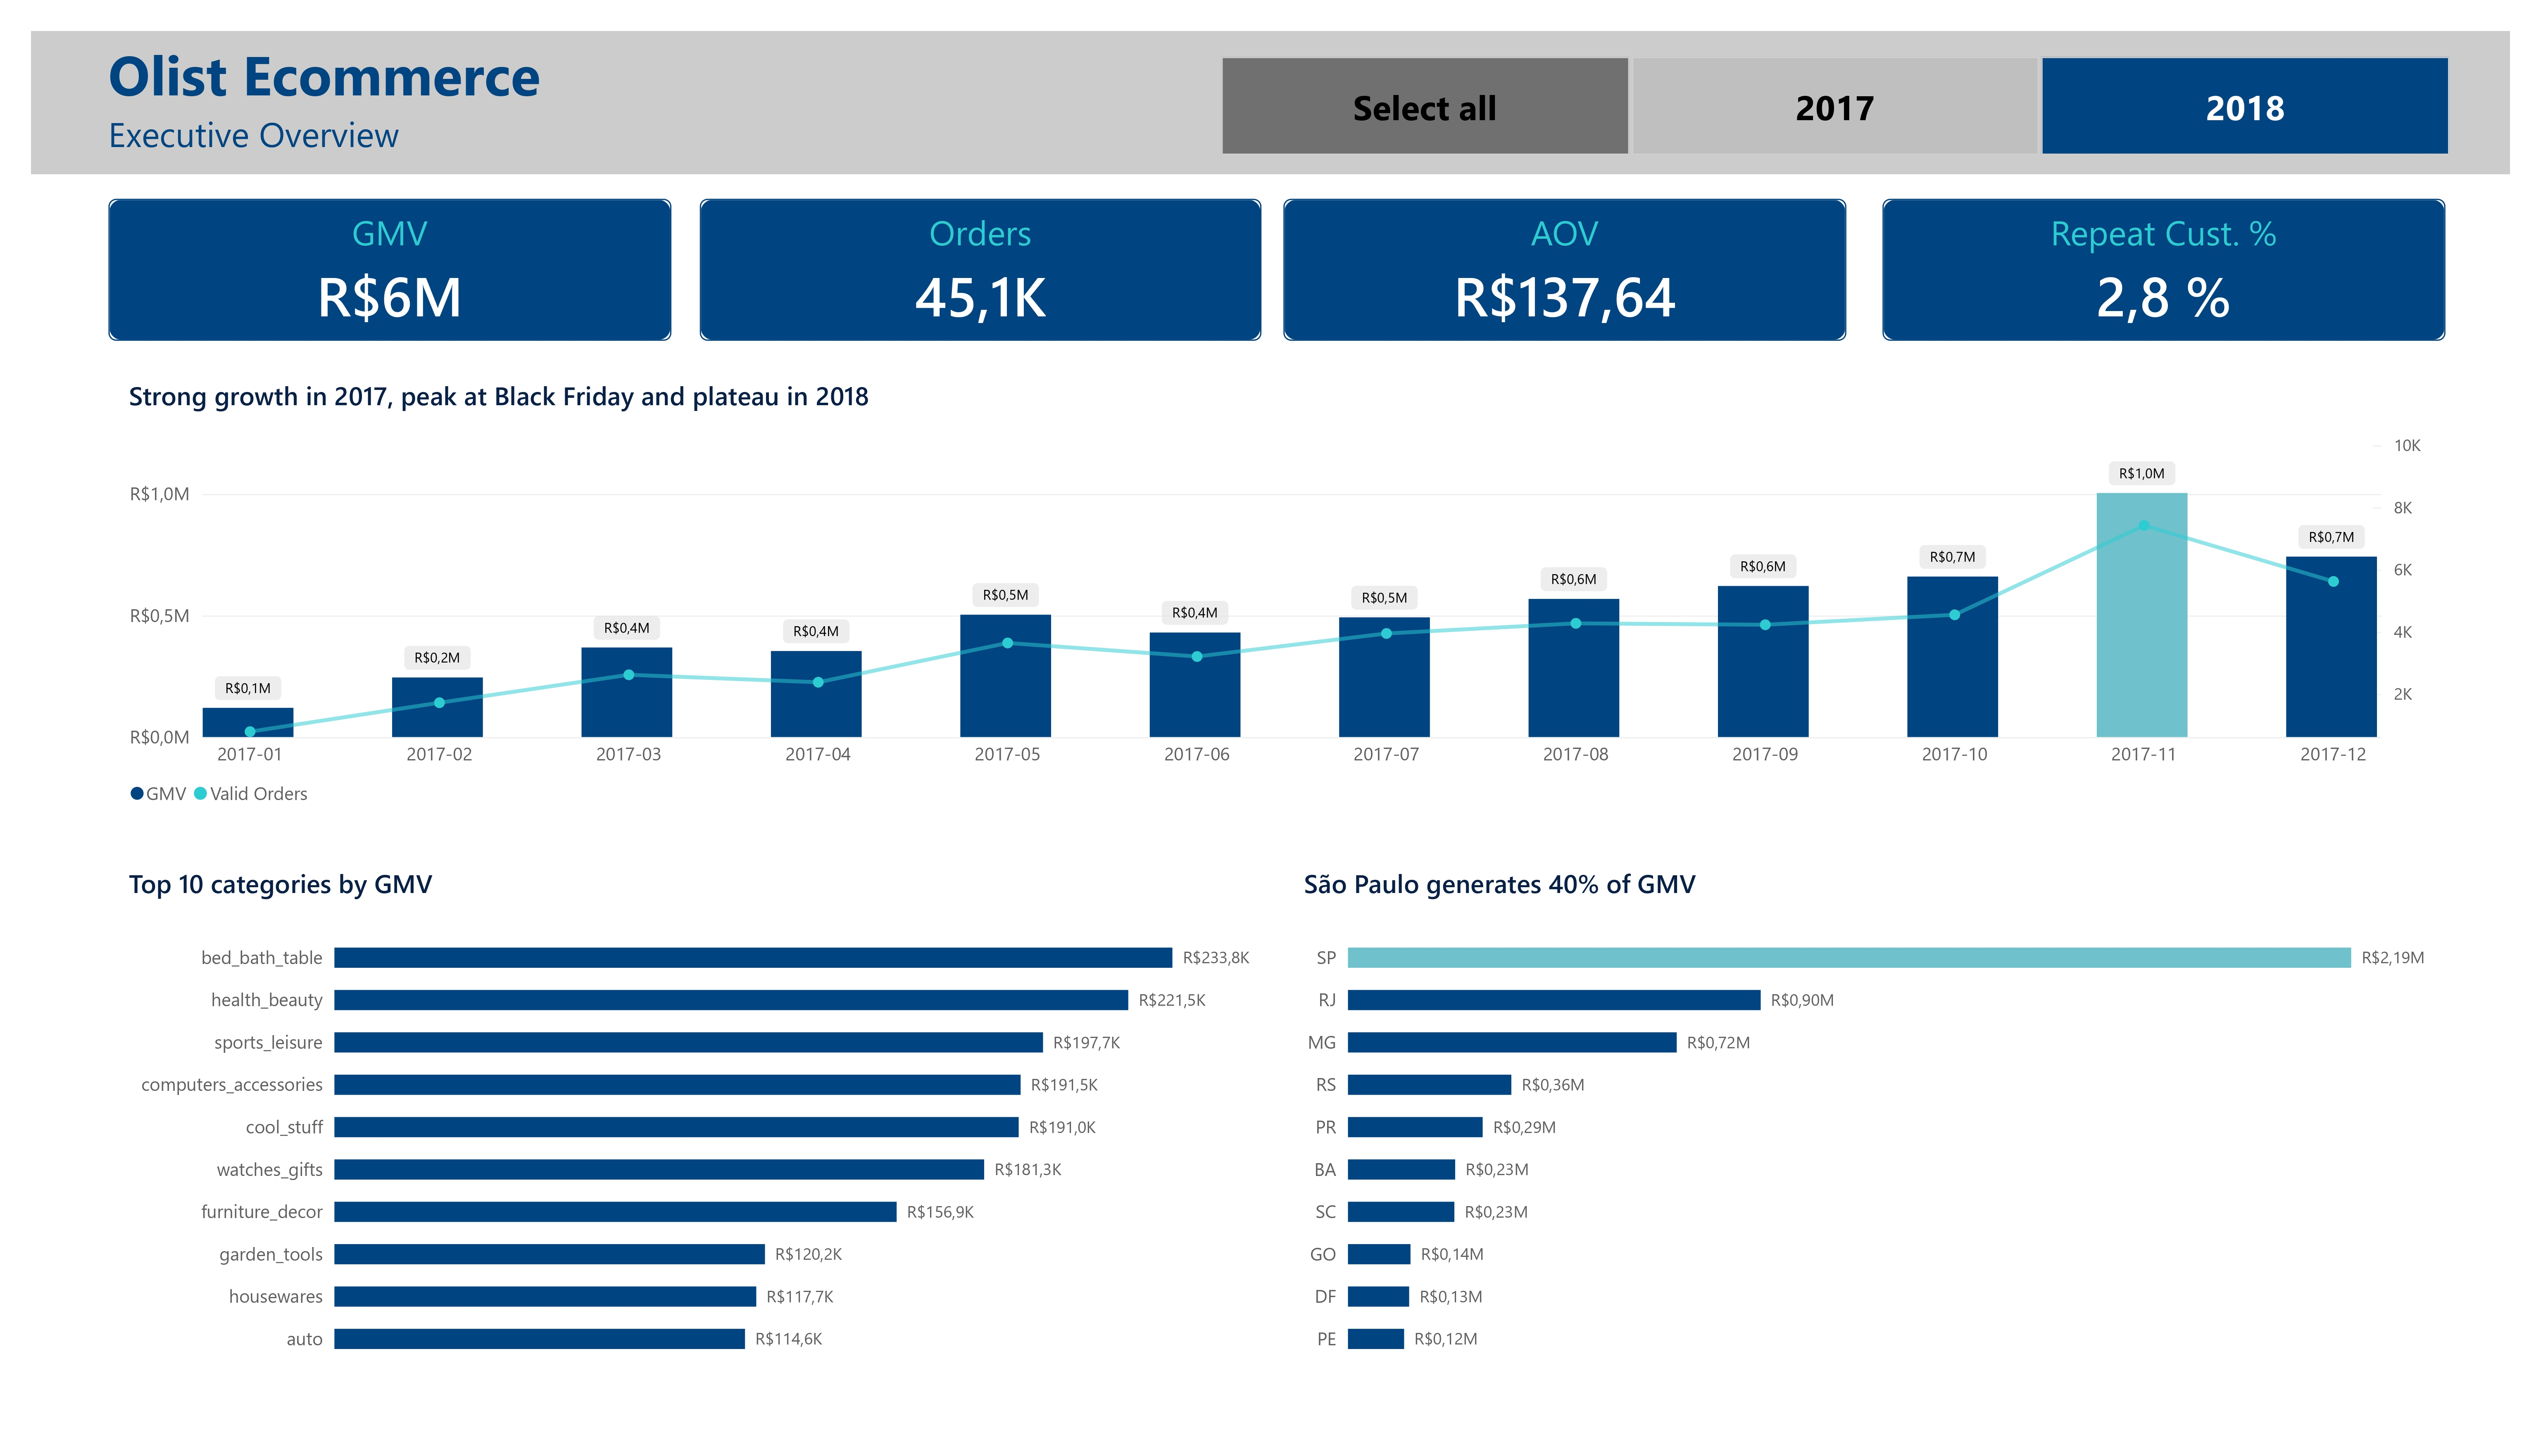

The dashboard page shown, as its layout file describes it:
{"tool":"powerbi","page":{"name":"Executive Overview","canvas":[1920,1080],"ordinal":0},"visuals":[{"type":"cardVisual","fields":{"Data":["_Measures.GMV"]},"box":[60,130,435.6,109.7],"z":0,"group":"g1"},{"type":"lineClusteredColumnComboChart","title":"Strong growth in 2017, peak at Black Friday and plateau in 2018","fields":{"Category":["Calendar.Year-Month"],"Y":["_Measures.GMV"],"Y2":["_Measures.Valid Orders"]},"box":[60,254,1810,367],"z":0},{"type":"cardVisual","fields":{"Data":["_Measures.Orders"]},"box":[517.8,130,435.6,109.7],"z":1000,"group":"g1"},{"type":"clusteredBarChart","title":"Top 10 categories by GMV","fields":{"Category":["dim_products.product_category_name_en"],"Y":["_Measures.GMV"]},"box":[60,632,900,419],"z":1000},{"type":"cardVisual","fields":{"Data":["_Measures.AOV"]},"box":[970,130,435.6,109.7],"z":2000,"group":"g1"},{"type":"clusteredBarChart","title":"São Paulo generates 40% of GMV","fields":{"Category":["dim_customers.customer_state"],"Y":["_Measures.GMV"]},"box":[970,632,900,419],"z":2000},{"type":"group","id":"g1","title":"Group 1","box":[60,130,1810,110],"z":3000},{"type":"cardVisual","fields":{"Data":["_Measures.Repeat Customer Rate"]},"box":[1434.4,130.3,435.6,109.7],"z":3000,"group":"g1"},{"type":"shape","box":[0,0,1920,111.2],"z":3500},{"type":"textbox","box":[60,3.8,548.6,107.7],"z":4000},{"type":"slicer","fields":{"Values":["Calendar.Year"]},"box":[901.2,17.5,991.1,80],"z":5000}]}

Visuals, with their boxes on the page's 1920x1080 design canvas (x1, y1, x2, y2). These are canvas units, not pixel positions in the 2541x1456 screenshot, which may show the page scaled, cropped or inside an application window:
cardVisual - _Measures.GMV: (60,130,496,240)
"Strong growth in 2017, peak at Black Friday and plateau in 2018" lineClusteredColumnComboChart: (60,254,1870,621)
cardVisual - _Measures.Orders: (518,130,953,240)
"Top 10 categories by GMV" clusteredBarChart: (60,632,960,1051)
cardVisual - _Measures.AOV: (970,130,1406,240)
"São Paulo generates 40% of GMV" clusteredBarChart: (970,632,1870,1051)
"Group 1" group: (60,130,1870,240)
cardVisual - _Measures.Repeat Customer Rate: (1434,130,1870,240)
shape: (0,0,1920,111)
textbox: (60,4,609,112)
slicer - Calendar.Year: (901,18,1892,98)
